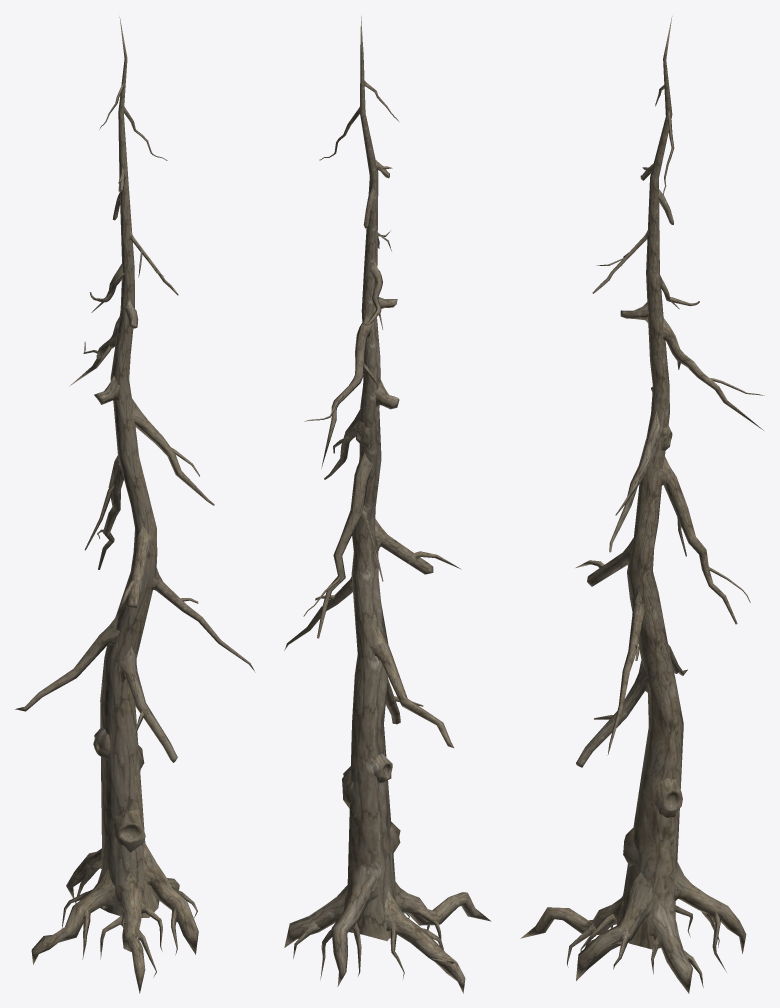
Rendered from SM_Com_Tre_38AL.fbx.
The picture shows the model from 3 angles, left to right: view 1: azimuth 30°, elevation 25°; view 2: azimuth 150°, elevation 25°; view 3: azimuth 270°, elevation 25°; orthographic projection. The views are drawn at different scales.
Visible parts, largest first — view 1: SM_Com_Tre_38AL.mo; view 2: SM_Com_Tre_38AL.mo; view 3: SM_Com_Tre_38AL.mo.
Boxes of the visible parts, x1=… form: SM_Com_Tre_38AL.mo: x1=15, y1=17, x2=255, y2=993; SM_Com_Tre_38AL.mo: x1=284, y1=16, x2=491, y2=993; SM_Com_Tre_38AL.mo: x1=520, y1=16, x2=764, y2=993.
Size of the model in its own units: 3.43 by 14.94 by 3.46.
